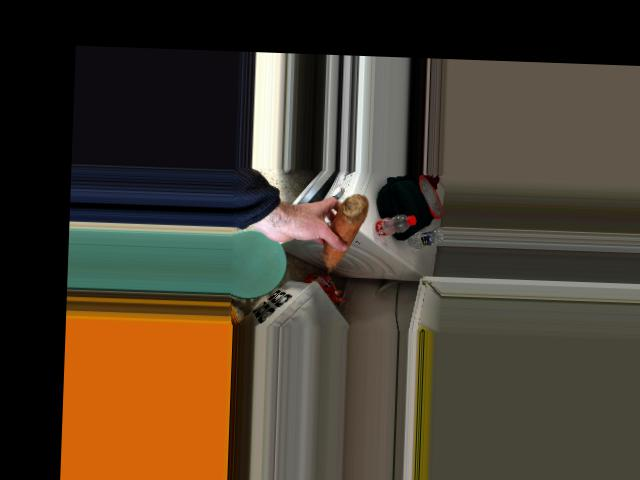sweet_potato: (316, 197, 371, 267)
